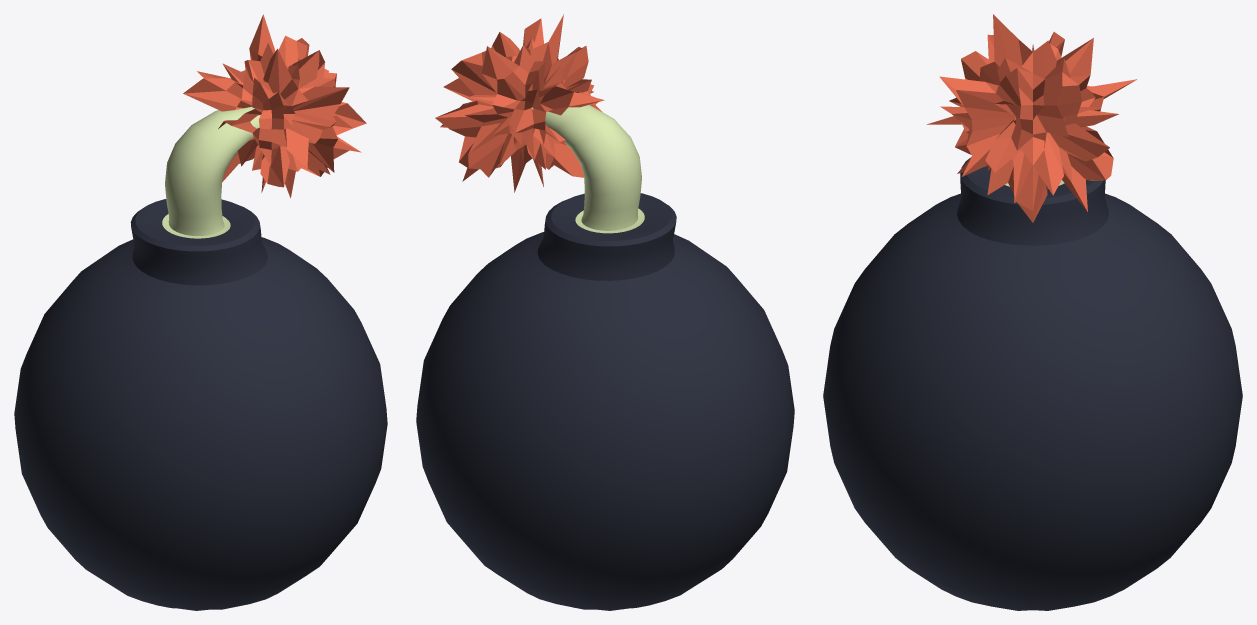
File: Bomb.fbx
The picture shows the model from 3 angles, left to right: view 1: azimuth 30°, elevation 25°; view 2: azimuth 150°, elevation 25°; view 3: azimuth 270°, elevation 25°; orthographic projection. The views are drawn at different scales.
Visible parts, largest first — view 1: Bomba, Bomba Ates; view 2: Bomba, Bomba Ates; view 3: Bomba, Bomba Ates.
Boxes of the visible parts, <box> form: Bomba: <box>14,106,387,610</box>; Bomba Ates: <box>183,14,366,198</box>; Bomba: <box>416,104,794,610</box>; Bomba Ates: <box>435,14,604,192</box>; Bomba: <box>823,158,1242,610</box>; Bomba Ates: <box>926,14,1136,222</box>.
Size of the model in its own units: 101 by 162 by 101.
